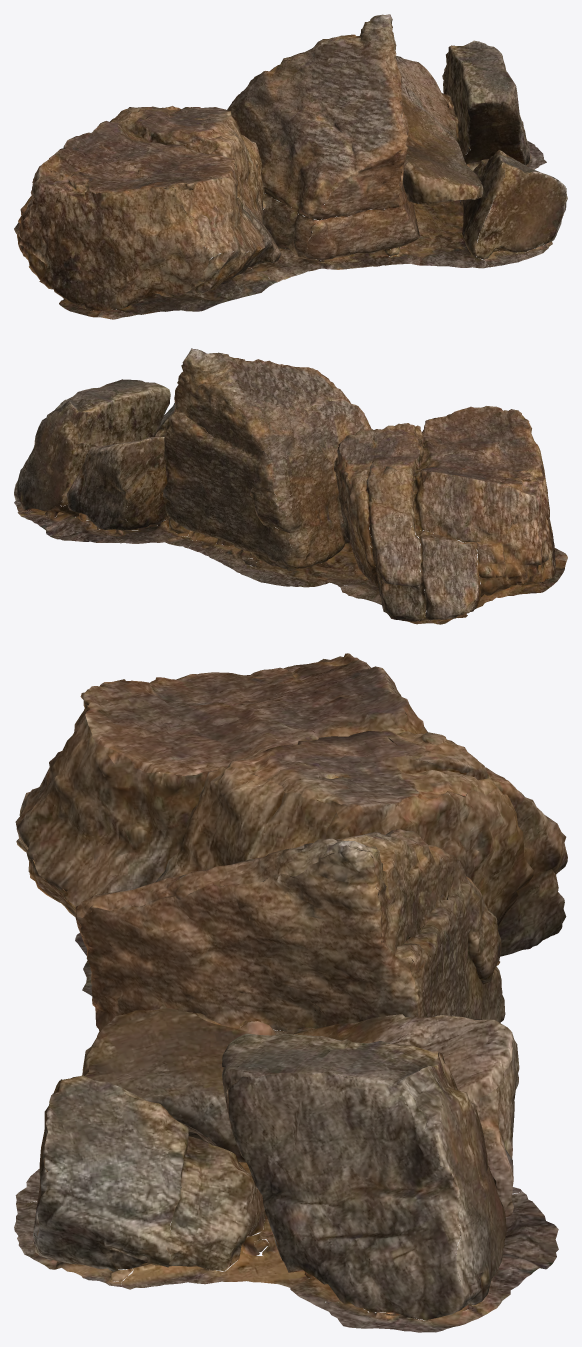
File: namaqualand_boulder_02.opt.glb
The picture shows the model from 3 angles, top to bottom: view 1: azimuth 30°, elevation 25°; view 2: azimuth 150°, elevation 25°; view 3: azimuth 270°, elevation 25°; orthographic projection. The views are drawn at different scales.
Parts seen in each view (by area): view 1: boulder_02; view 2: boulder_02; view 3: boulder_02.
Boxes of the visible parts, x1,y1,x2,y2 form: boulder_02: (14,14,567,319); boulder_02: (14,348,567,624); boulder_02: (14,653,567,1332).
Size of the model in its own units: 2.53 by 0.883 by 1.23.
Materials: 1 (1 with a texture image).
